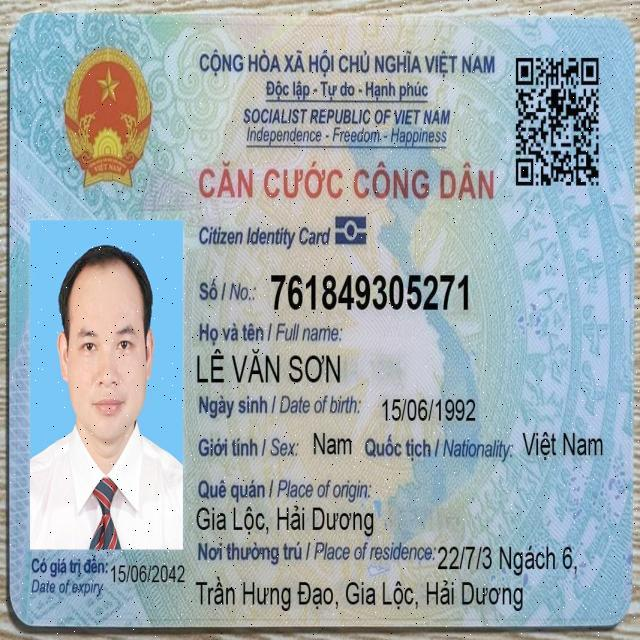current_place: (193, 572, 525, 616), (436, 541, 579, 579)
dob: (379, 396, 478, 425)
expire_date: (109, 561, 187, 586)
gender: (311, 428, 355, 459)
id: (267, 269, 473, 316)
name: (195, 344, 343, 388)
nationality: (521, 428, 605, 463)
origin_place: (193, 501, 377, 540)
qr: (512, 49, 604, 194)
